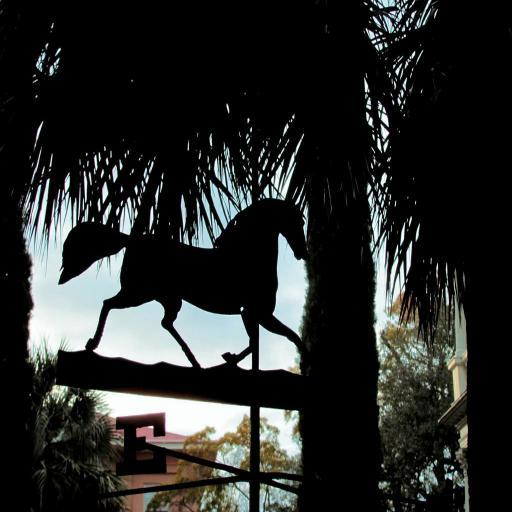Horse: (58, 198, 311, 371)
